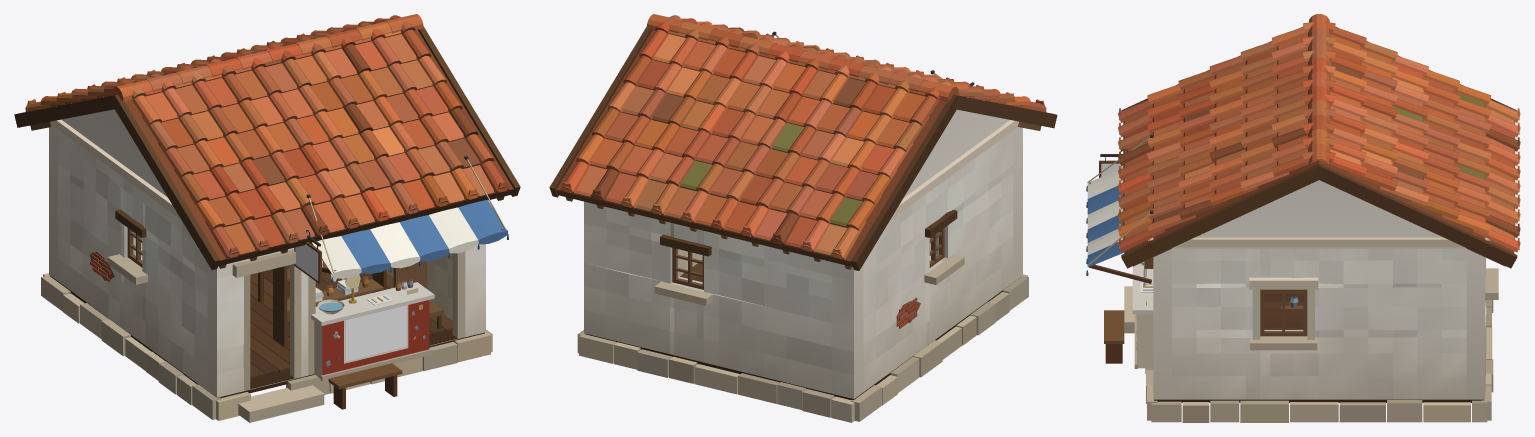
The model's file is shop_barber.glb.
The picture shows the model from 3 angles, left to right: view 1: azimuth 30°, elevation 25°; view 2: azimuth 150°, elevation 25°; view 3: azimuth 270°, elevation 25°; orthographic projection.
Visible parts, largest first — view 1: House, Walls, Rooms; view 2: House, Walls; view 3: House, Walls, Rooms.
Part boxes in pixels (x1,y1,x2,y2): House: (14,14,520,422); Walls: (49,109,485,397); Rooms: (141,237,452,379); House: (549,14,1057,422); Walls: (584,109,1022,398); House: (1086,14,1520,422); Walls: (1153,180,1486,399); Rooms: (1264,289,1303,329).
Bounding box in the file's own units: 4.09 × 3.48 × 5.1.
7 materials, 7 textured.
